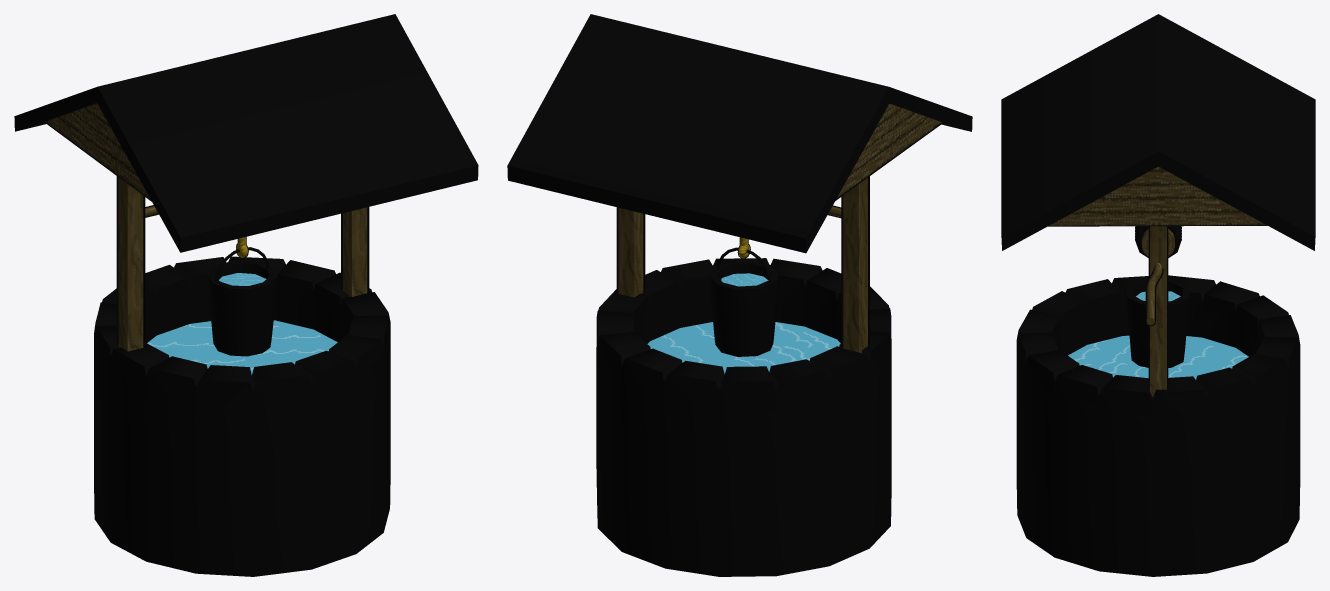
File: upgraded well.fbx
3 views of the same model, side by side, from view 1: azimuth 30°, elevation 25°; view 2: azimuth 150°, elevation 25°; view 3: azimuth 270°, elevation 25° (orthographic). The views are drawn at different scales.
Parts seen in each view (by area): view 1: well003, UPGRADEDroof001, bucket003, UPGRADEDwater, UPGRADEDpole1, UPGRADEDside2, UPGRADEDpole2, UPGRADEDpole003; view 2: well003, UPGRADEDroof001, bucket003, UPGRADEDwater, UPGRADEDpole1, UPGRADEDside2, UPGRADEDpole2, UPGRADEDpole003; view 3: well003, UPGRADEDroof001, UPGRADEDside1, UPGRADEDwater, bucket003, UPGRADEDpole2, UPGRADEDcylinder, UPGRADEDpole004, UPGRADEDrope001.
Boxes of the visible parts, <box> form: well003: <box>94,256,390,576</box>; UPGRADEDroof001: <box>14,14,478,252</box>; bucket003: <box>207,260,277,356</box>; UPGRADEDwater: <box>147,320,337,374</box>; UPGRADEDpole1: <box>118,177,143,351</box>; UPGRADEDside2: <box>46,103,150,198</box>; UPGRADEDpole2: <box>343,207,367,296</box>; UPGRADEDpole003: <box>116,176,145,347</box>; well003: <box>596,258,891,576</box>; UPGRADEDroof001: <box>507,14,972,253</box>; bucket003: <box>709,260,779,356</box>; UPGRADEDwater: <box>647,322,840,373</box>; UPGRADEDpole1: <box>843,178,867,353</box>; UPGRADEDside2: <box>837,103,941,197</box>; UPGRADEDpole2: <box>618,208,643,297</box>; UPGRADEDpole003: <box>841,176,869,348</box>; well003: <box>1016,275,1300,576</box>; UPGRADEDroof001: <box>1001,14,1315,250</box>; UPGRADEDside1: <box>1049,166,1265,225</box>; UPGRADEDwater: <box>1068,335,1248,379</box>; bucket003: <box>1126,279,1189,367</box>; UPGRADEDpole2: <box>1150,226,1166,397</box>; UPGRADEDcylinder: <box>1142,229,1174,324</box>; UPGRADEDpole004: <box>1148,226,1168,381</box>; UPGRADEDrope001: <box>1135,226,1181,256</box>.
Size of the model in its own units: 162 by 199 by 129.
Materials: 11 (10 with a texture image).
